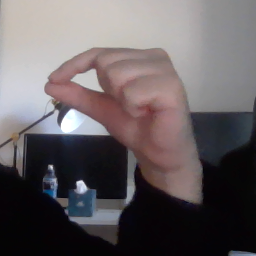S: (41, 43, 199, 174)
